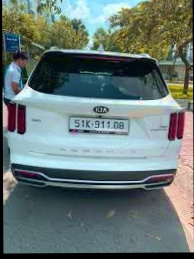Bien-so: (65, 124, 127, 141)
